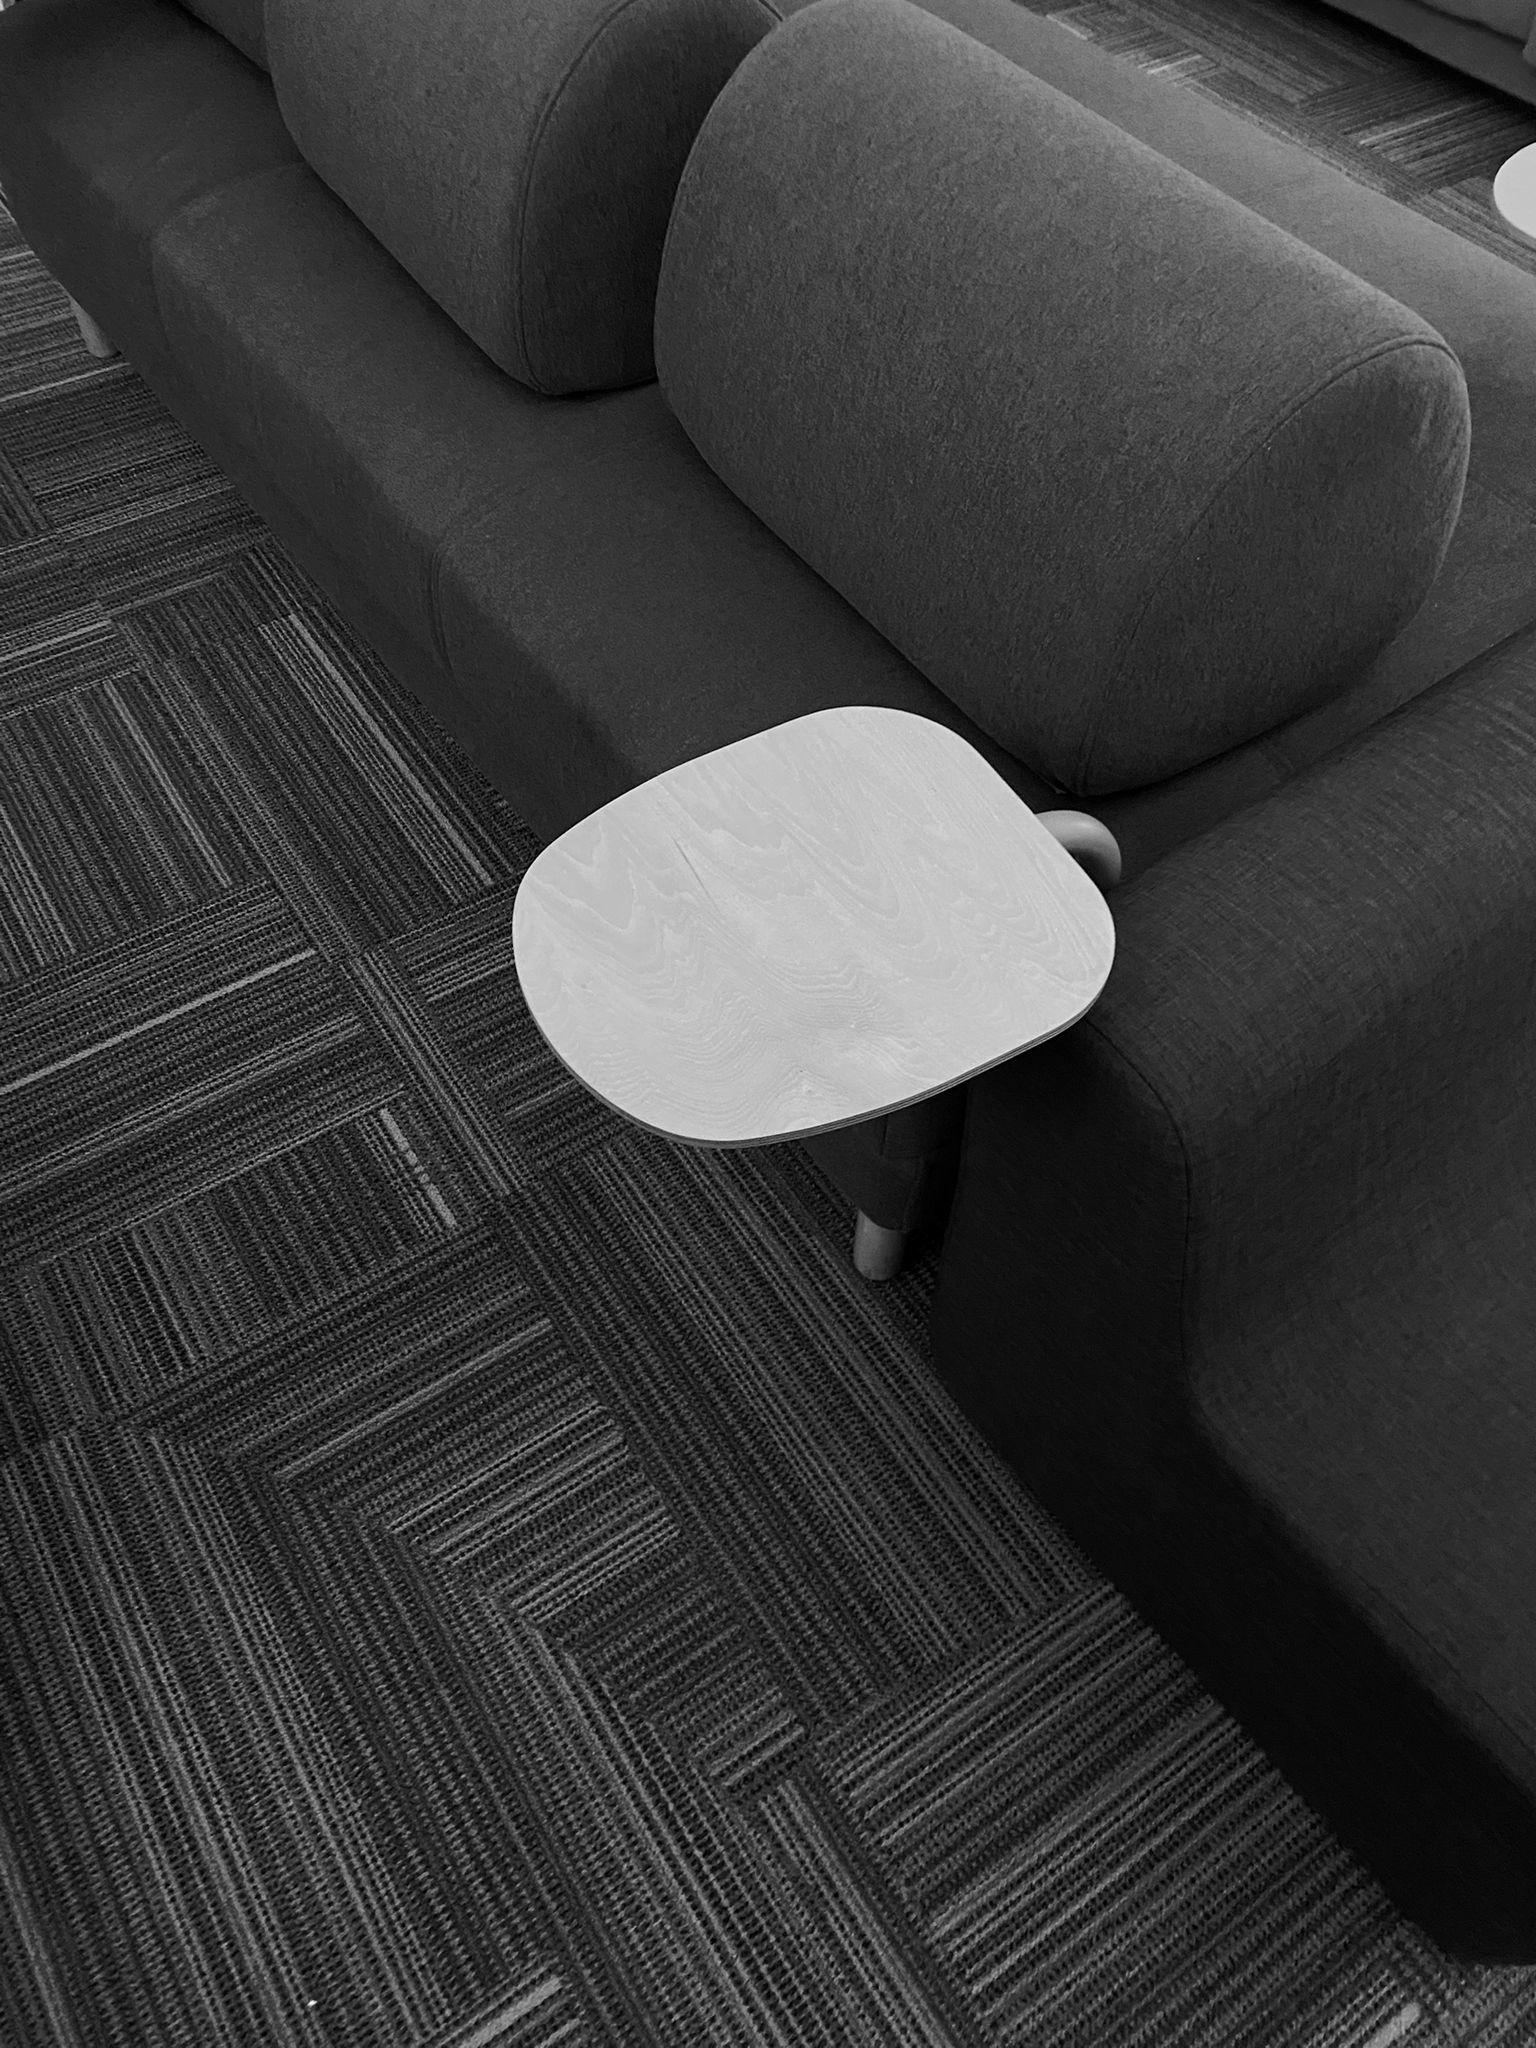Table: (513, 706, 1120, 1148)
